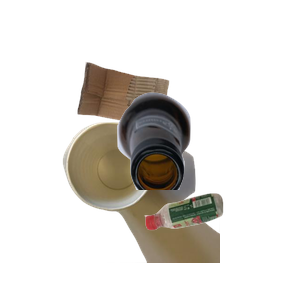cardboard: (75, 59, 237, 176)
glass: (115, 90, 300, 270)
plastic: (142, 191, 300, 300)
trash: (60, 120, 300, 300)
